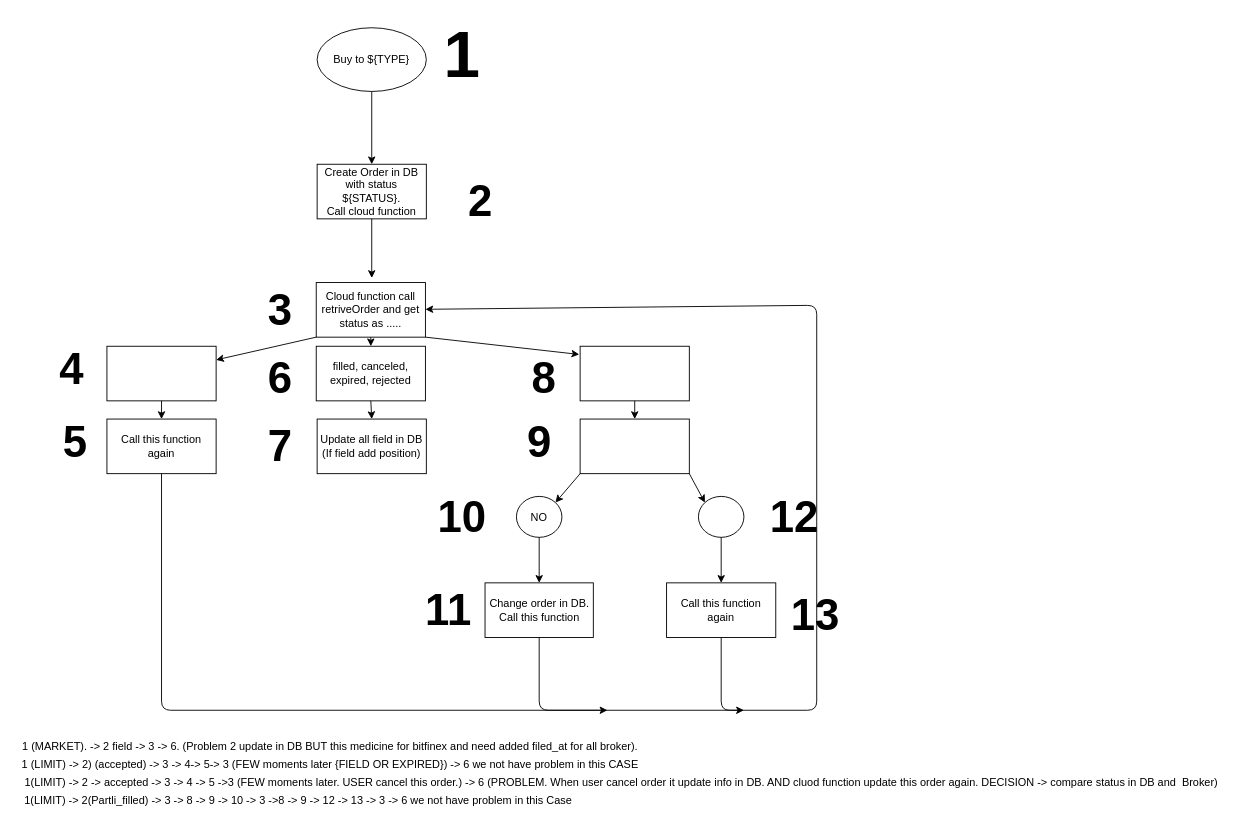
This 1241x825 diagram has some shape labels left out. Each missing label, with the centre of its shape:
"if filled_qty in broker and filled_qty in DB equal" belongs at (x=634, y=446).
"partlly_filled" belongs at (x=634, y=373).
"submitted, accepted, recived, pending_cancel" belongs at (x=161, y=373).
"YES" belongs at (x=721, y=516).
